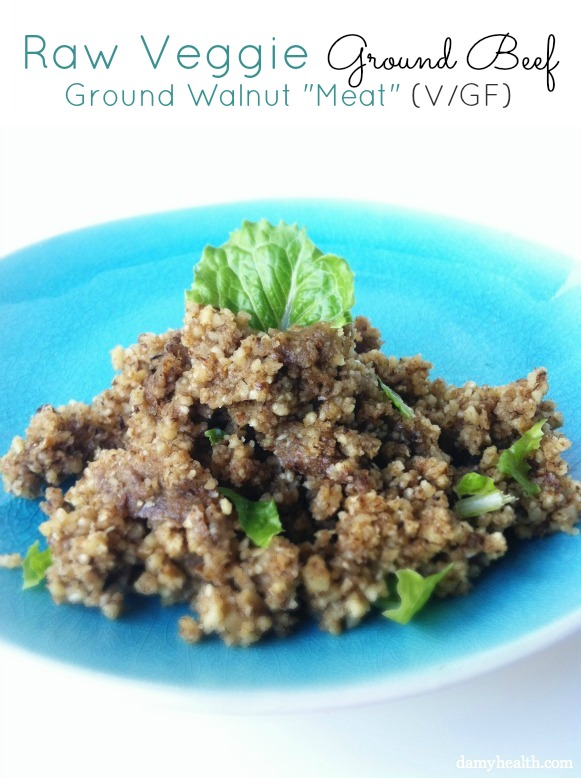ground_beef: (55, 361, 461, 572)
